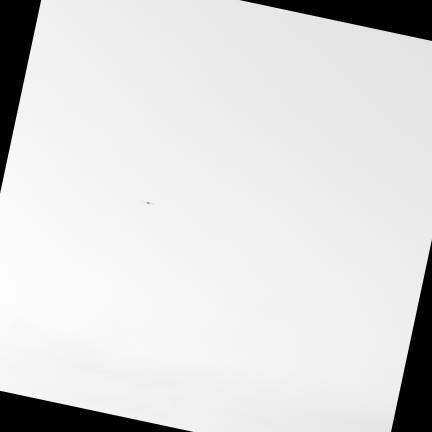Shahed: (142, 201, 154, 206)
